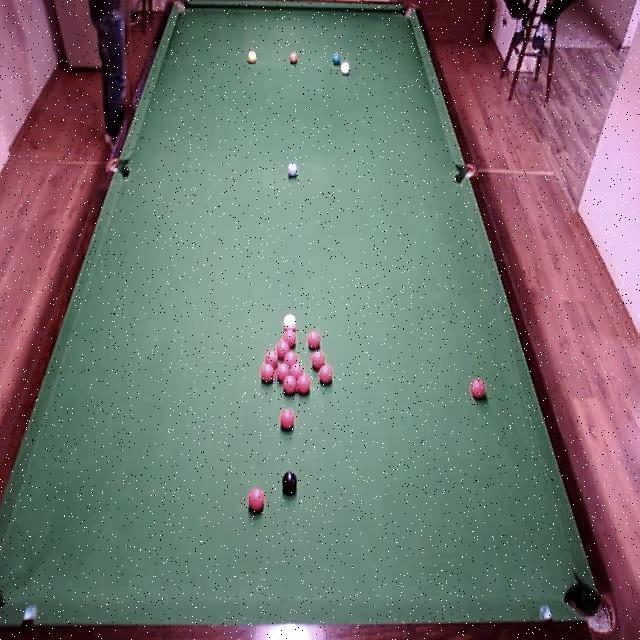Ball: (279, 472, 299, 496), (470, 377, 487, 401), (280, 408, 295, 432), (319, 364, 335, 386), (249, 488, 264, 510), (312, 350, 326, 370), (283, 376, 297, 396), (260, 364, 274, 384), (282, 330, 296, 348), (307, 331, 321, 349), (297, 376, 310, 394), (283, 313, 297, 329), (264, 351, 278, 367), (277, 362, 289, 380), (276, 342, 290, 357), (284, 352, 298, 366), (247, 48, 258, 65), (290, 364, 303, 377), (288, 161, 298, 177), (289, 52, 299, 66), (340, 63, 350, 75), (332, 53, 341, 66)
